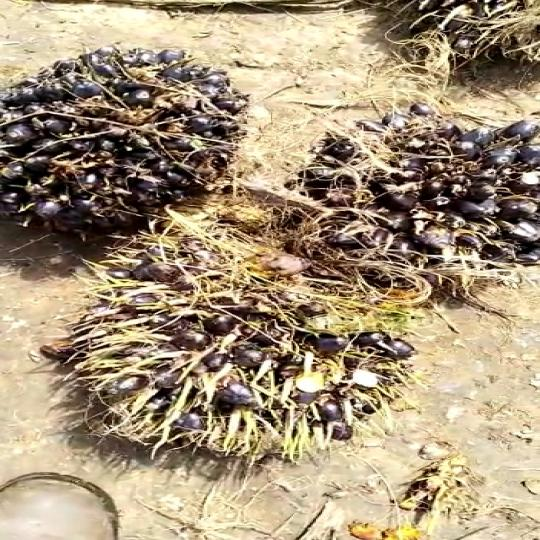mentah: (68, 225, 412, 486), (0, 24, 268, 237), (299, 93, 540, 290)
